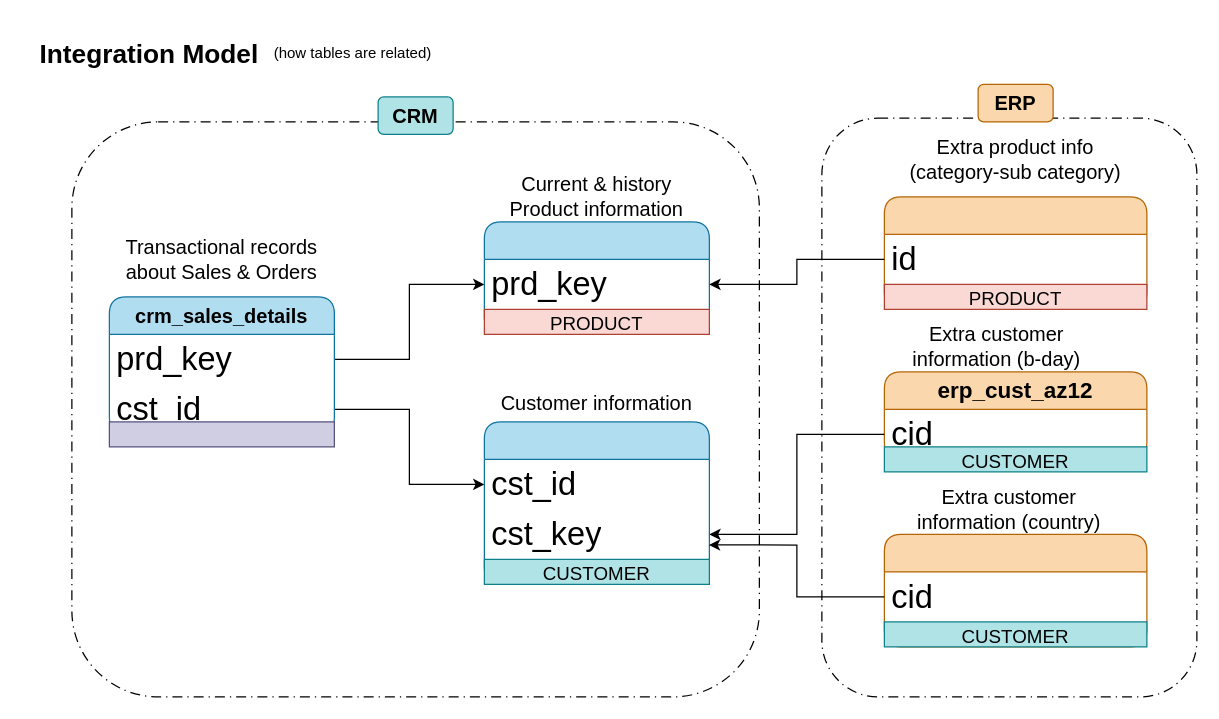
Image size: 1219x719. Some labels were removed from this diagram. Here are the shapes that lost their labels. From the top down, the box of each, then its label:
(883, 196, 1147, 309): erp_px_cat_g1v2
(483, 221, 709, 334): crm_prd_info
(108, 421, 334, 447): SALES
(483, 421, 709, 584): crm_cust_info
(883, 533, 1147, 647): erp_loc_a101
